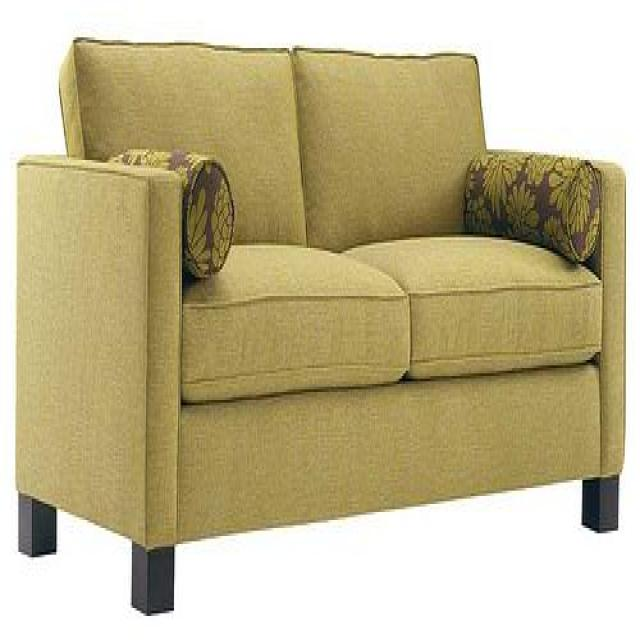sofa: (15, 32, 627, 615)
